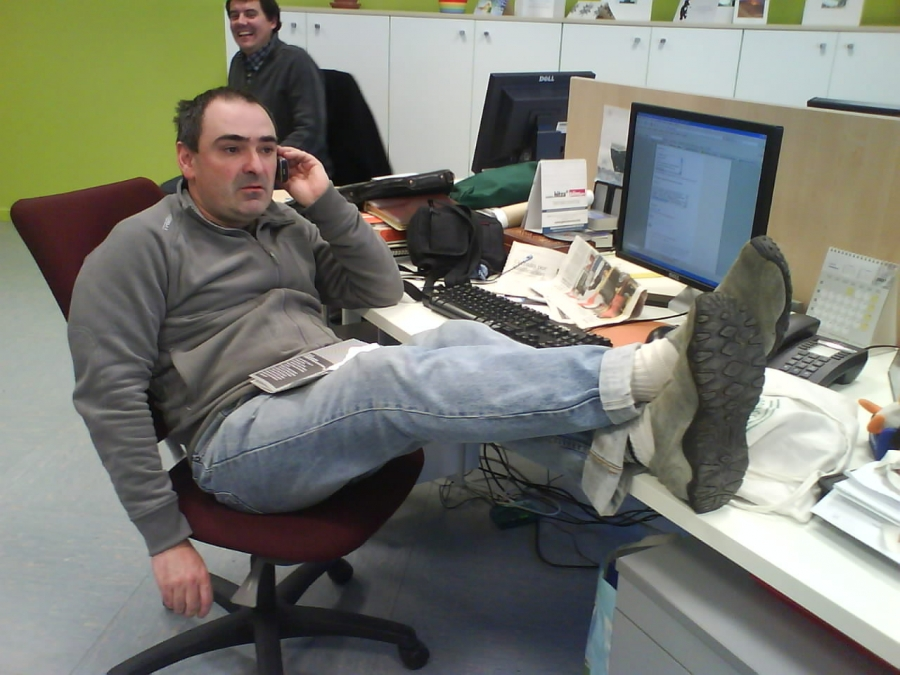phone: (267, 139, 307, 185)
talk: (203, 124, 330, 211)
